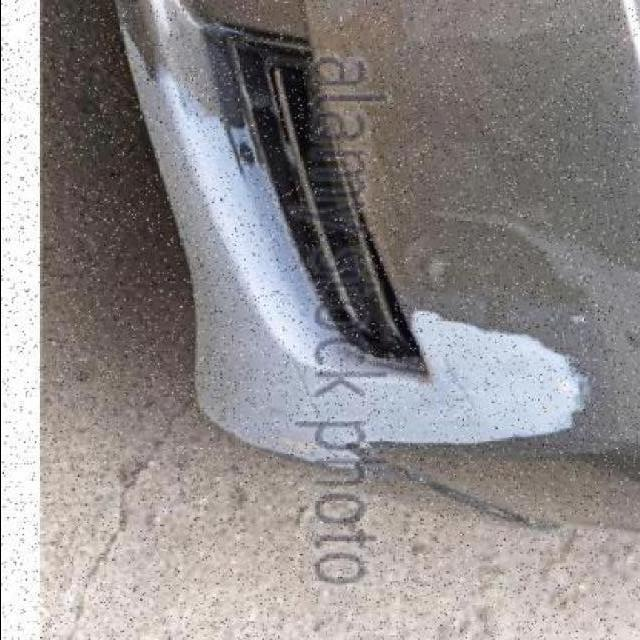front-bumper-dent: (117, 0, 640, 563)
